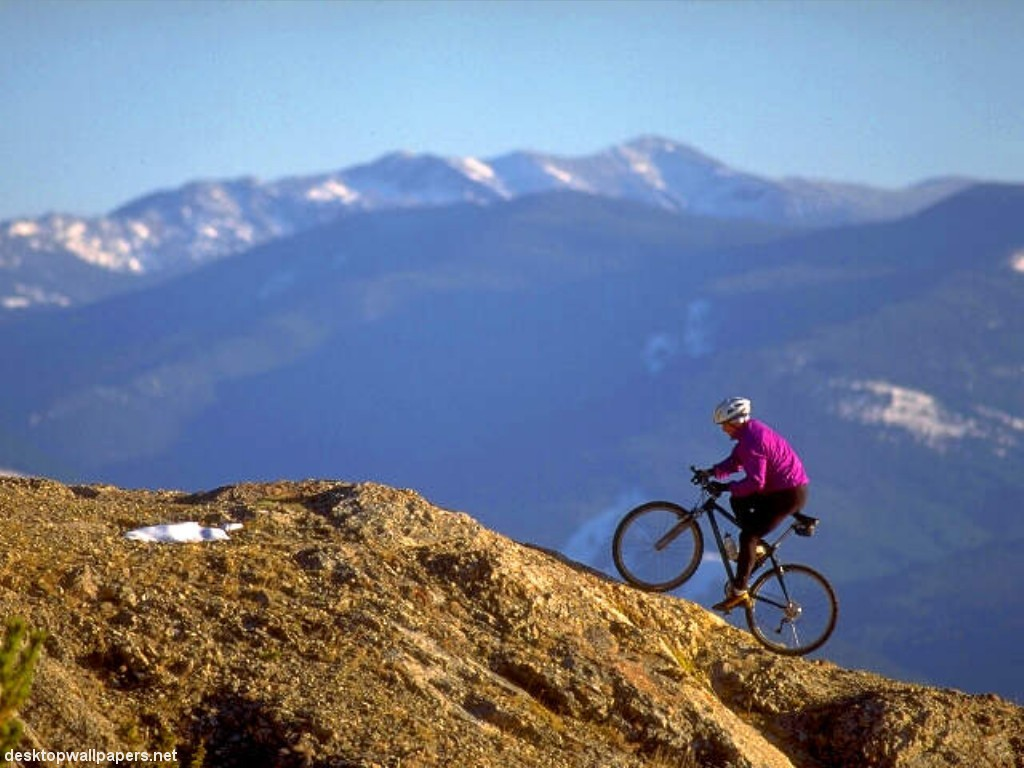with_helmet: (712, 395, 752, 420)
